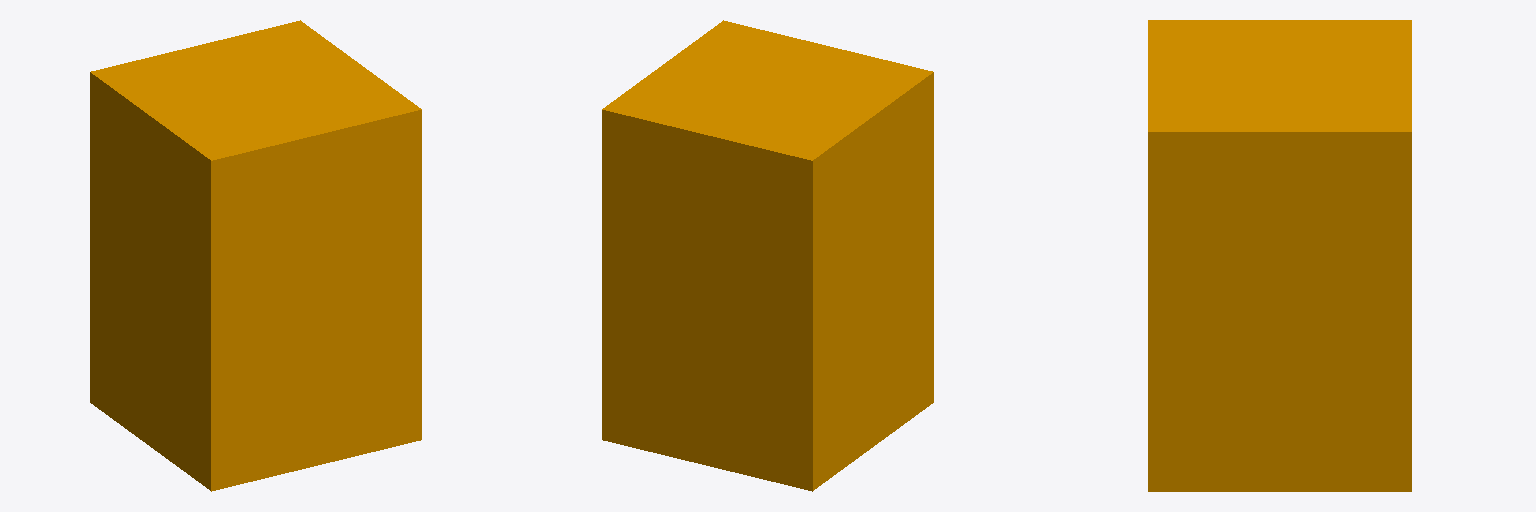
robot.urdf — simple_box:
<robot name="simple_box">
  <link name="my_box">
    <inertial>
      <origin xyz="0.5 0 0" />
      <mass value="1.0" />
      <inertia  ixx="1.0" ixy="0.0"  ixz="0.0"  iyy="100.0"  iyz="0.0"  izz="1.0" />
    </inertial>
    <visual>
      <origin xyz="0.5 0 0" />
      <geometry>
        <box size=".05 0.05 0.075" />
      </geometry>
    </visual>
    <collision>
      <origin xyz="0.5 0 0" />
      <geometry>
        <box size=".05 0.05 0.075" />
      </geometry>
    </collision>
  </link>
  <gazebo reference="my_box">
    <material>Gazebo/Blue</material>
  </gazebo>
</robot>

--- What the picture shows (computed from the rendered views, not written in the file) ---
The picture shows the robot from 3 angles, left to right: view 1: azimuth 30°, elevation 25°; view 2: azimuth 150°, elevation 25°; view 3: azimuth 270°, elevation 25°; orthographic projection.
Robot: simple_box — 1 links, 0 joints (none); root link my_box; default pose: all joints at 0.
Visible links, largest first — view 1: my_box; view 2: my_box; view 3: my_box.
Link boxes in pixels (x1,y1,x2,y2): my_box: [90, 20, 421, 491]; my_box: [602, 20, 933, 491]; my_box: [1148, 20, 1411, 491].
Size in the robot's own frame: 0.05 by 0.05 by 0.075 metres.
Geometry: primitives only (box / cylinder / sphere), no mesh files.